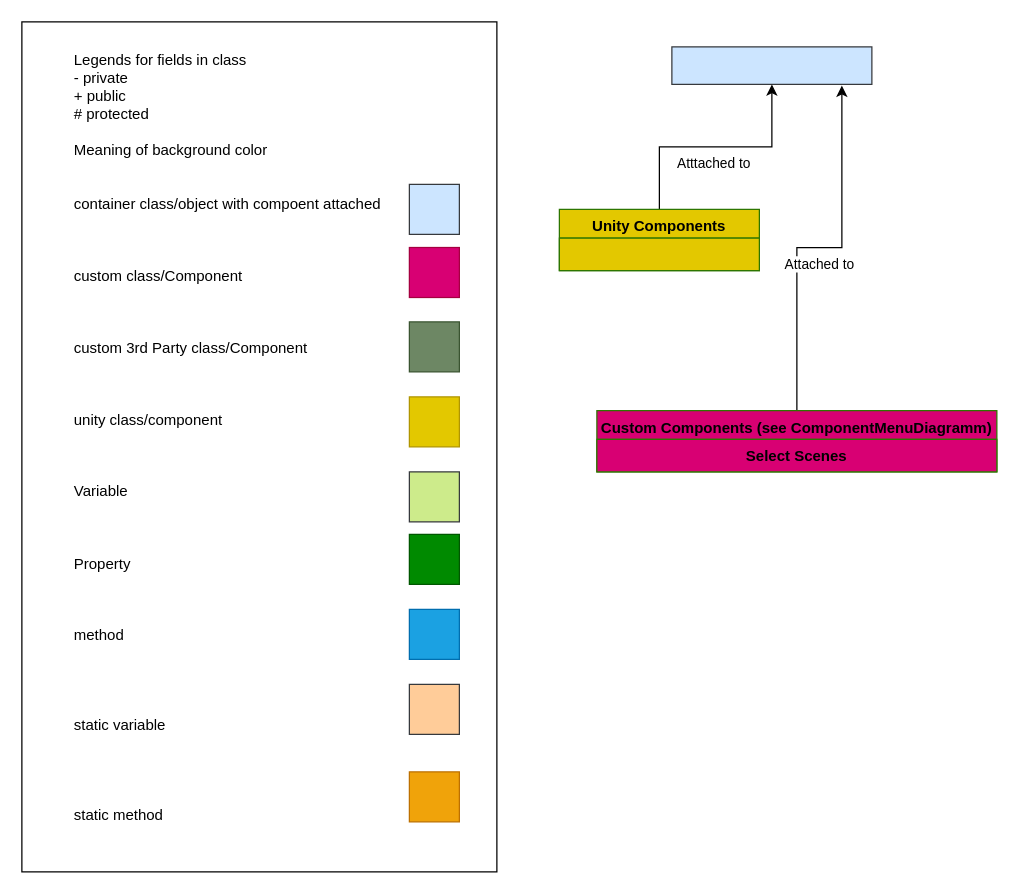
The diagram is 1019 pixels wide and 894 high, and some of its shapes have lost their labels. Each missing label, with the box of its shape:
Button Menu: (671, 46, 872, 84)
Transfrom: (558, 237, 759, 271)
